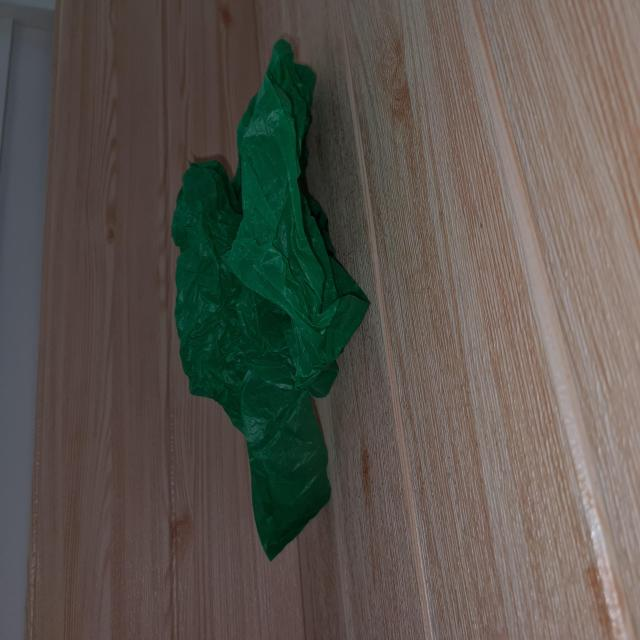plastic bag: (171, 36, 372, 558)
